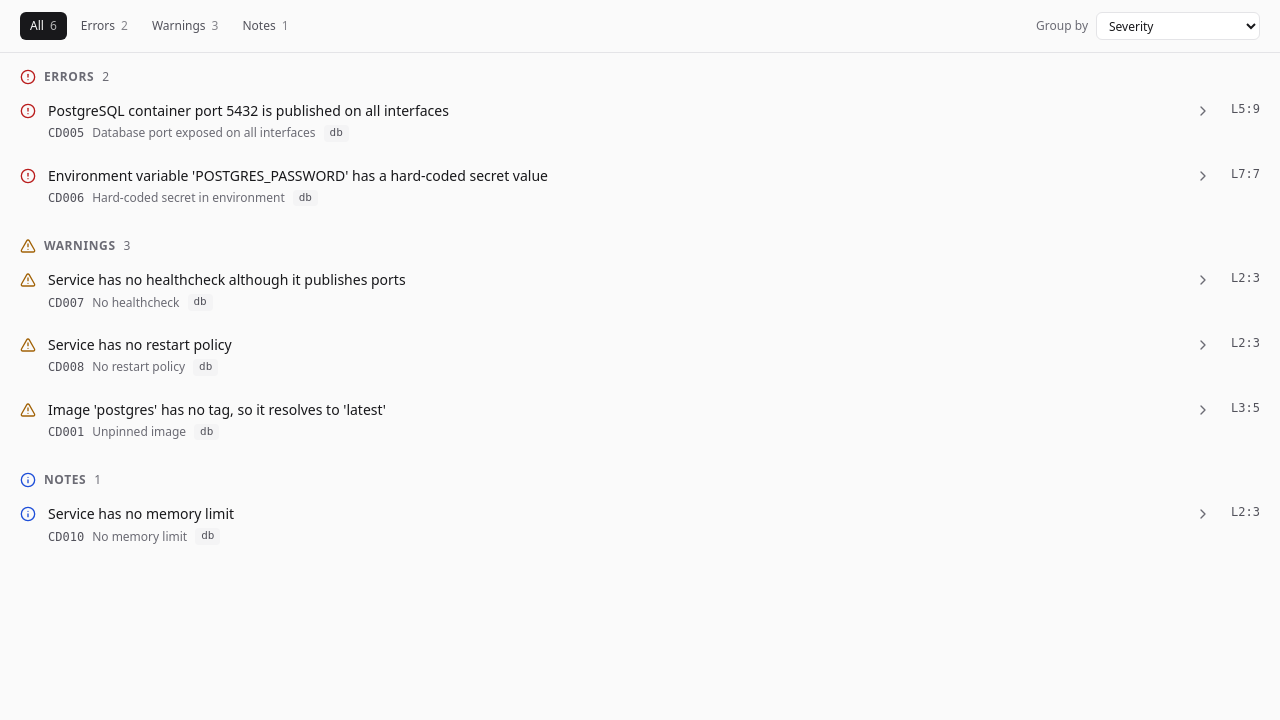
Test case: FindingsList › groups by service
Select "Service" in the dropdown labelled "Group by" at (1178, 26), box [1096,12,1260,40]
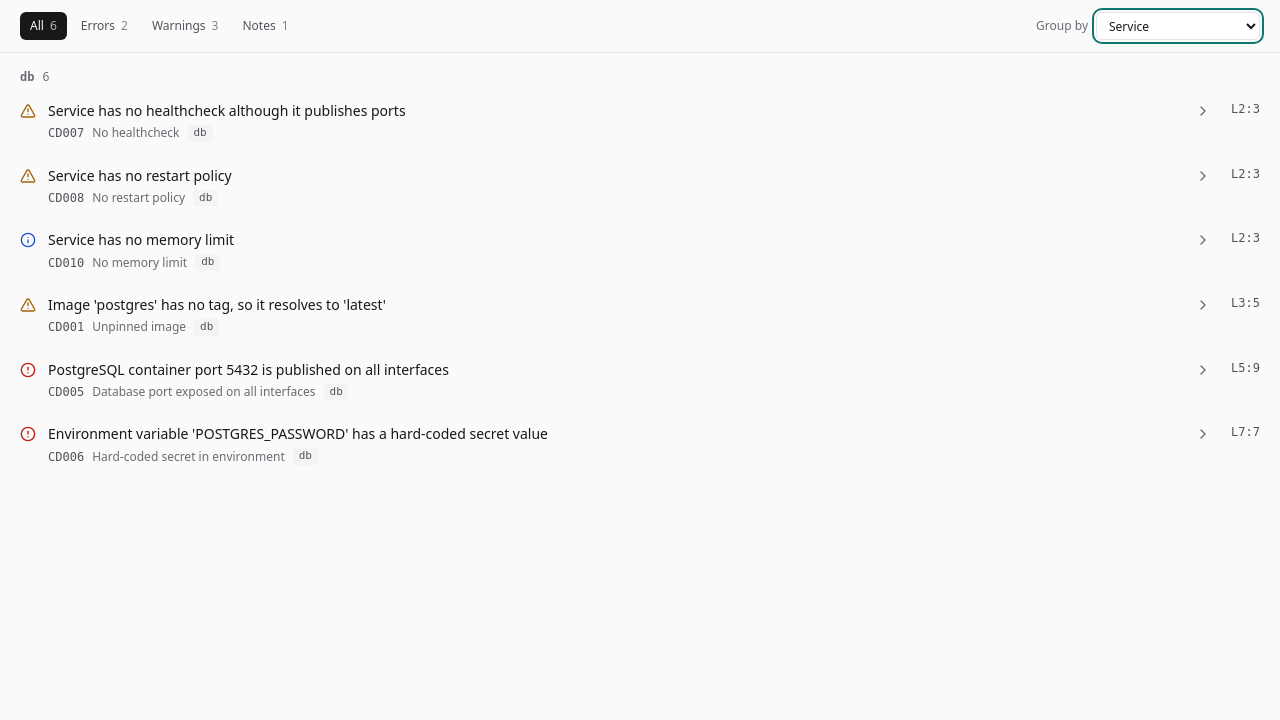
Expected: the element "db" is shown, [0,53,1279,481]
